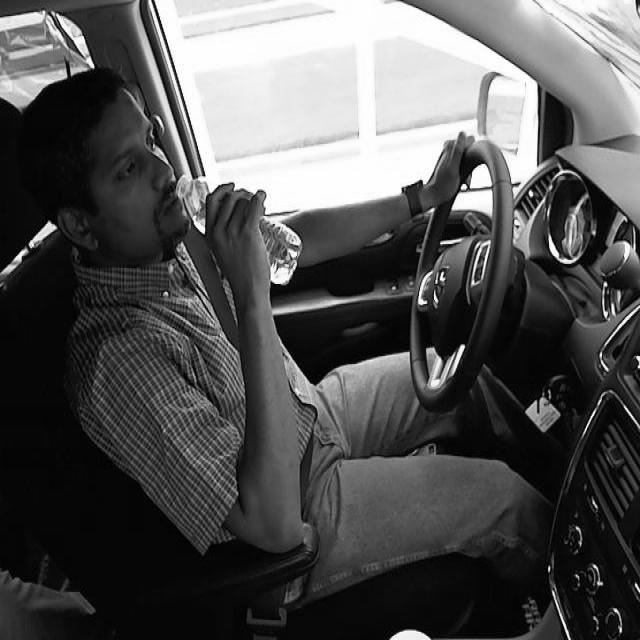Drinking: (169, 171, 304, 285)
